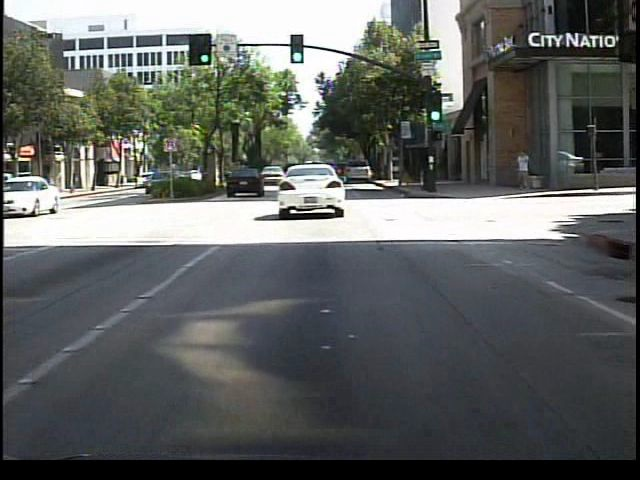person: (512, 148, 534, 197)
